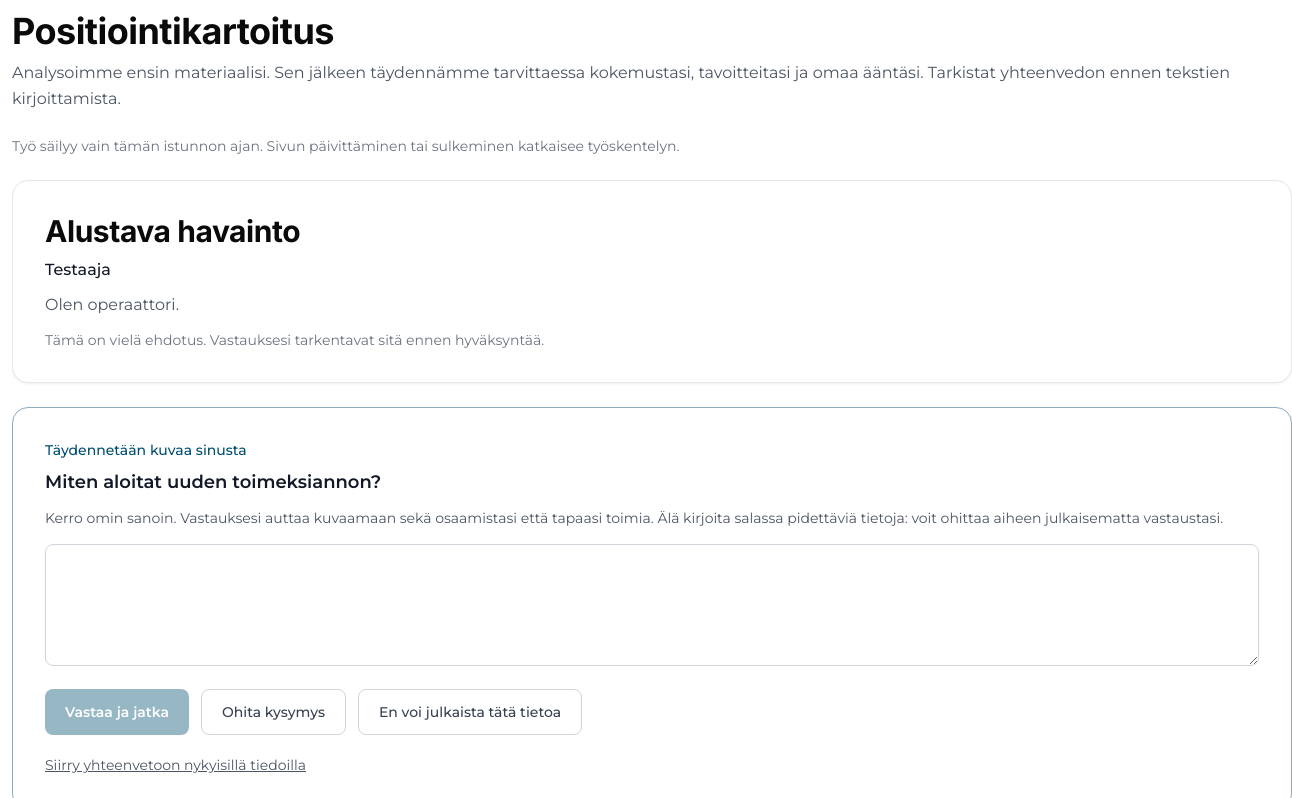
Test: täydentävä kartoitus › virheessä säilyttää vastauksen uutta yritystä varten
The image size is (1292, 798).
Type "Kuuntelen." into the text box labelled "Miten aloitat uuden toimeksiannon?" at (652, 605), box [45, 544, 1259, 666]
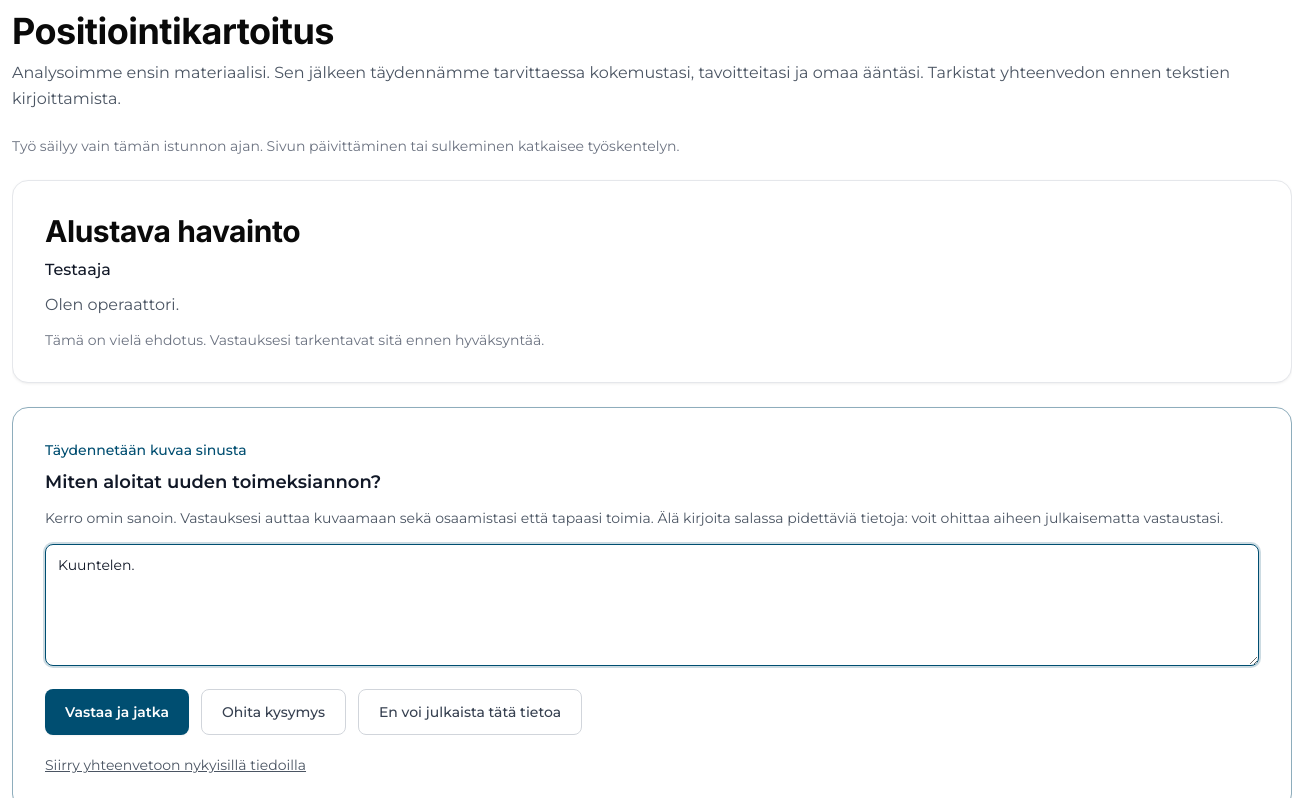
Click the button "Vastaa ja jatka" at (117, 712), box [45, 689, 189, 735]
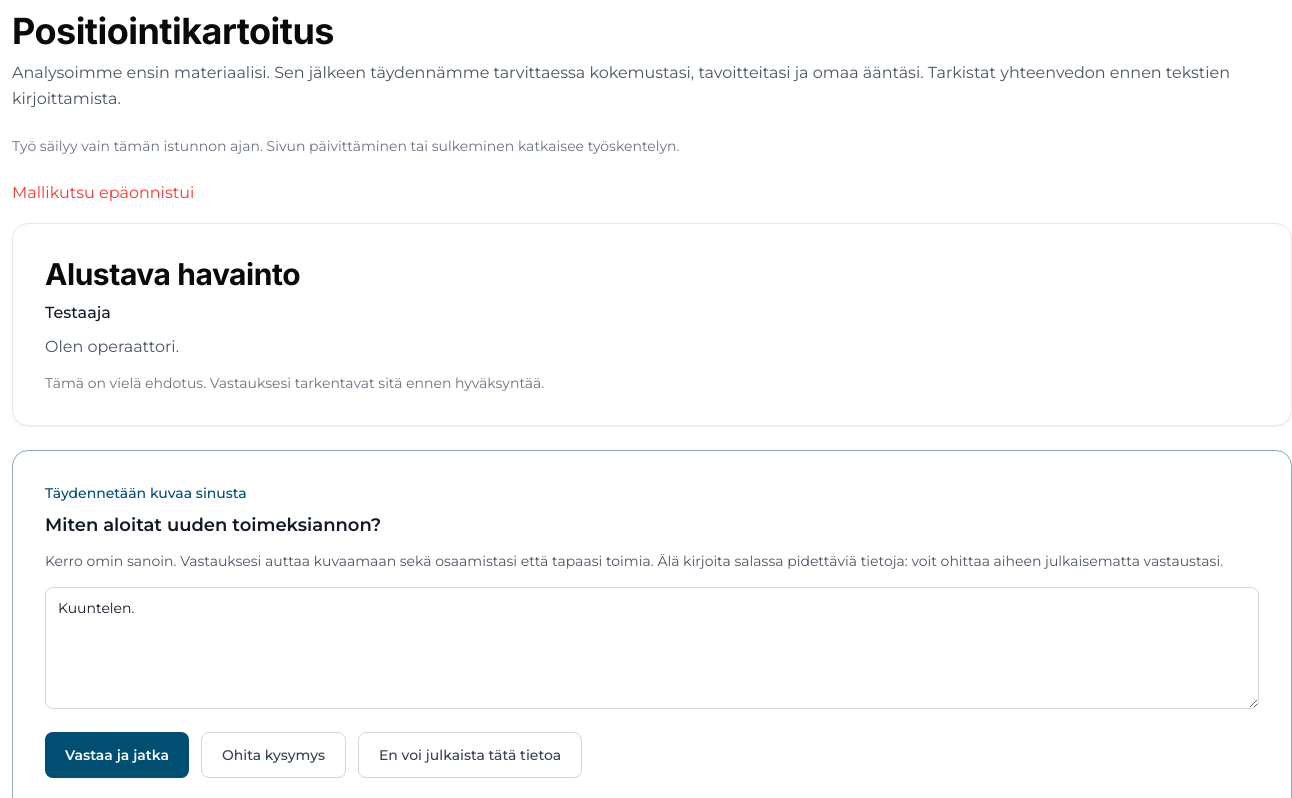
Result: the message reads "Mallikutsu epäonnistui" at [12, 183, 194, 202]
